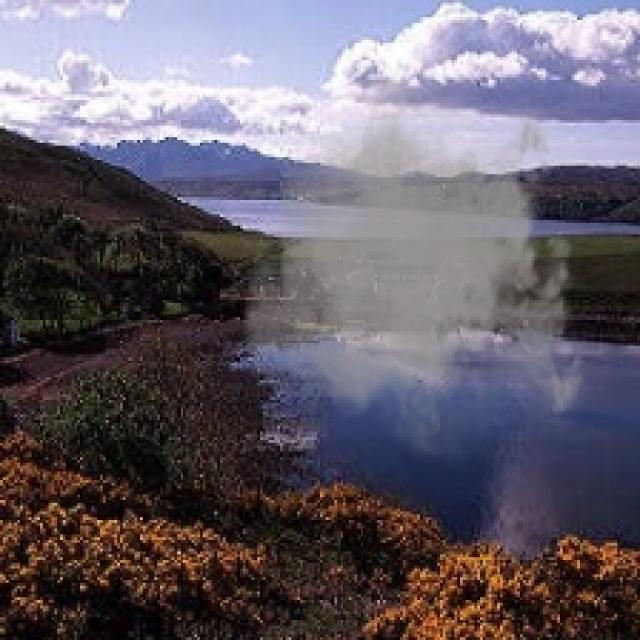smoke: (237, 52, 594, 477)
